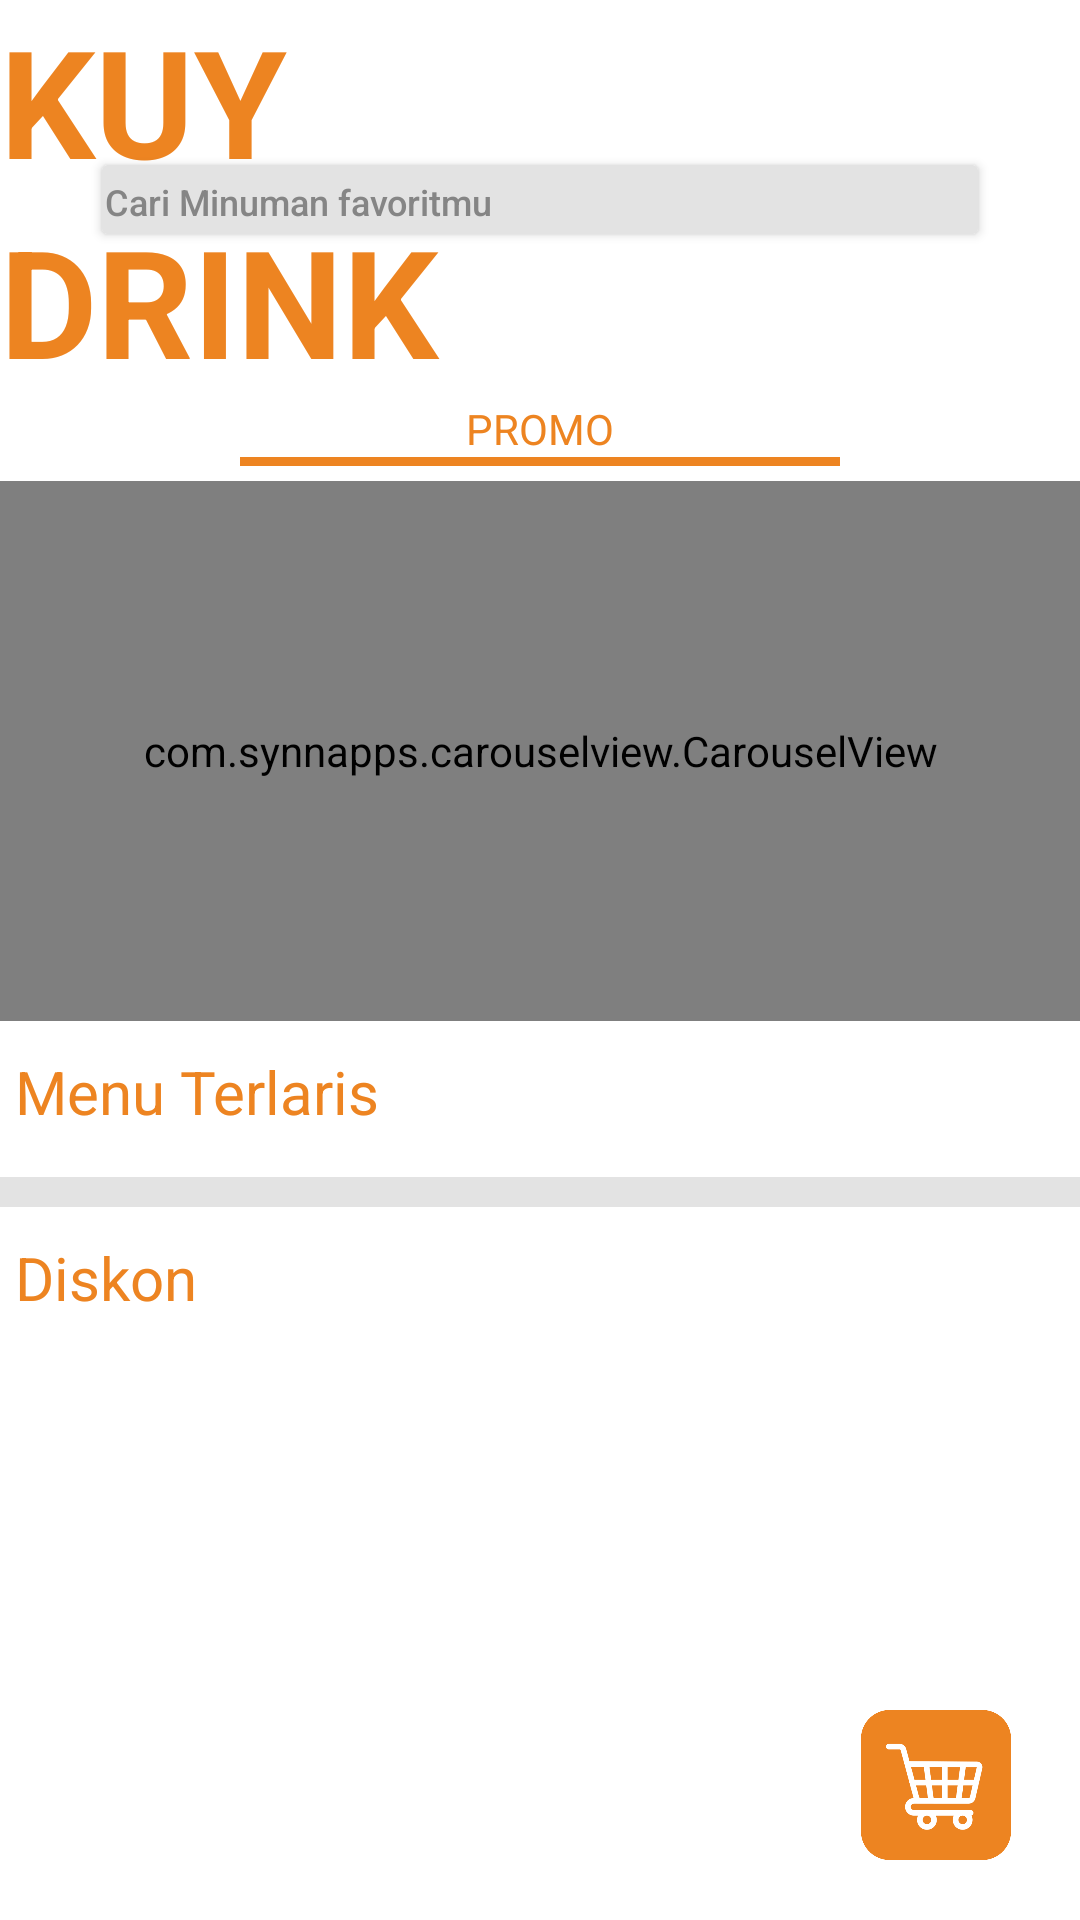

Locate icon controls on the screen. Image size 1080 × 1920, boxes as (x1, y1, x2, y2).
cart: (861, 1710, 1011, 1860)
